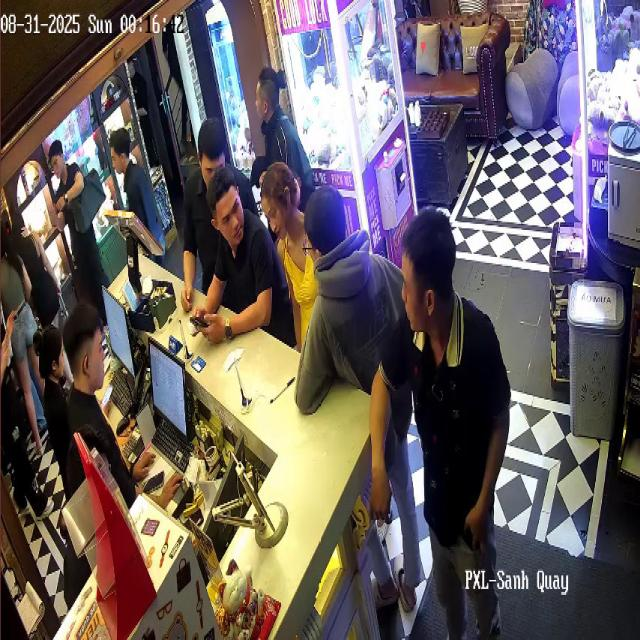khach: (384, 191, 500, 601), (304, 172, 404, 438), (213, 178, 286, 331), (248, 51, 318, 198), (258, 152, 316, 315), (47, 139, 102, 310), (1, 217, 39, 442), (15, 219, 58, 347)
nhan vien: (62, 303, 130, 507), (176, 110, 213, 287), (110, 133, 158, 259), (34, 318, 71, 473)
